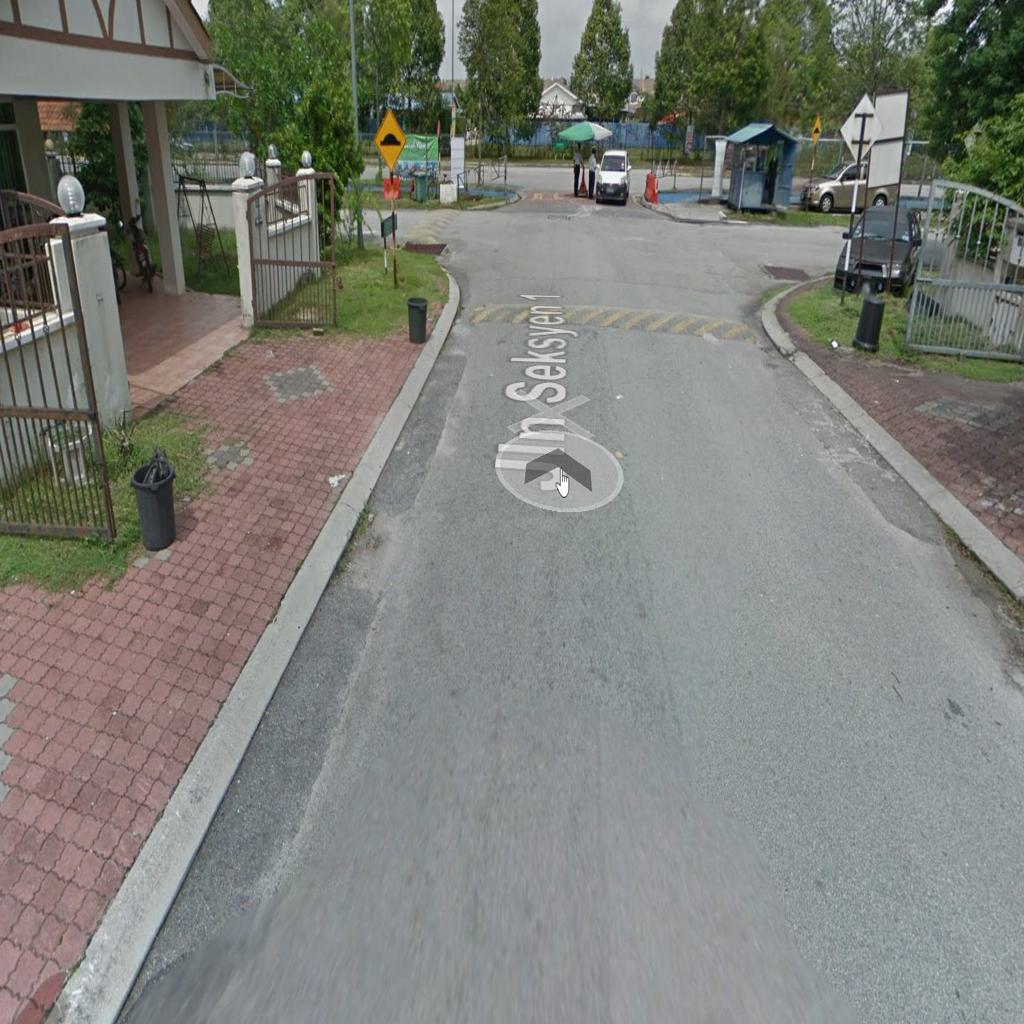Junction: (331, 187, 515, 312), (703, 199, 842, 312)
